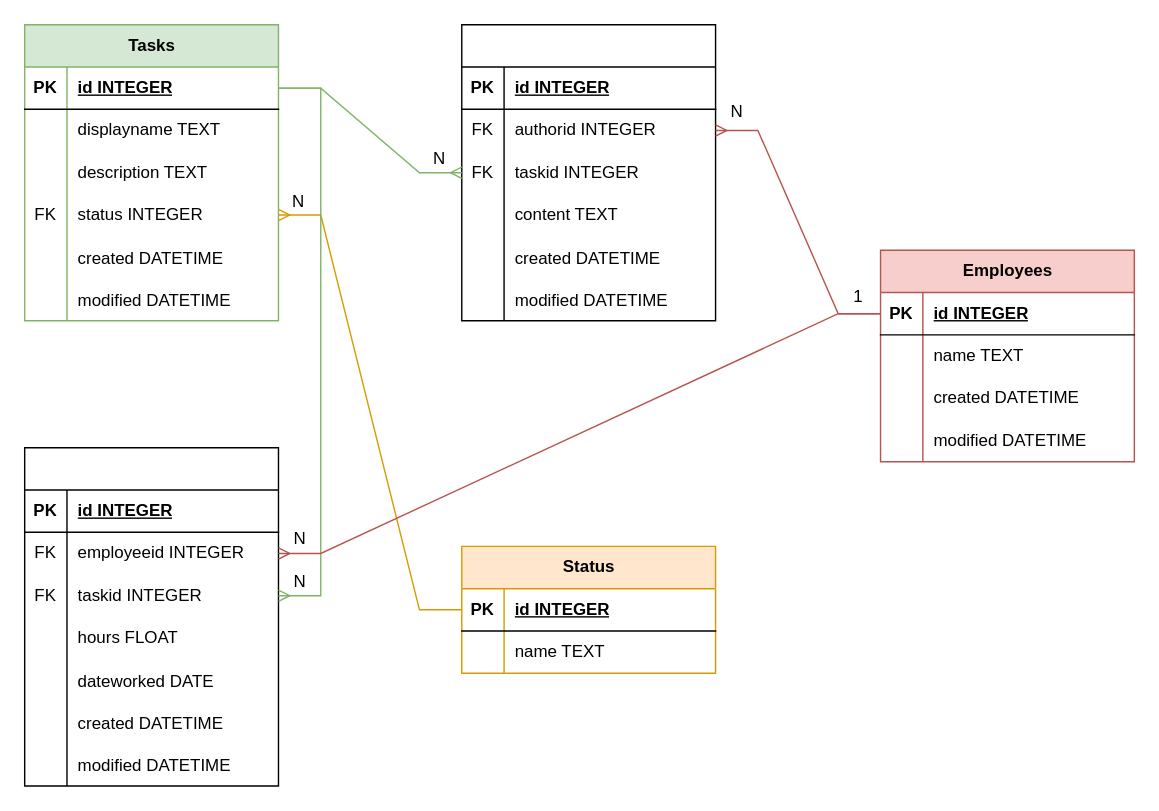
Image size: 1159x811. Some labels were removed from this diagram. Here are the shapes that lost their labels. From the top down, the box of each, then its label:
(460, 23, 716, 321): Comments
(23, 446, 278, 786): TaskTimes
